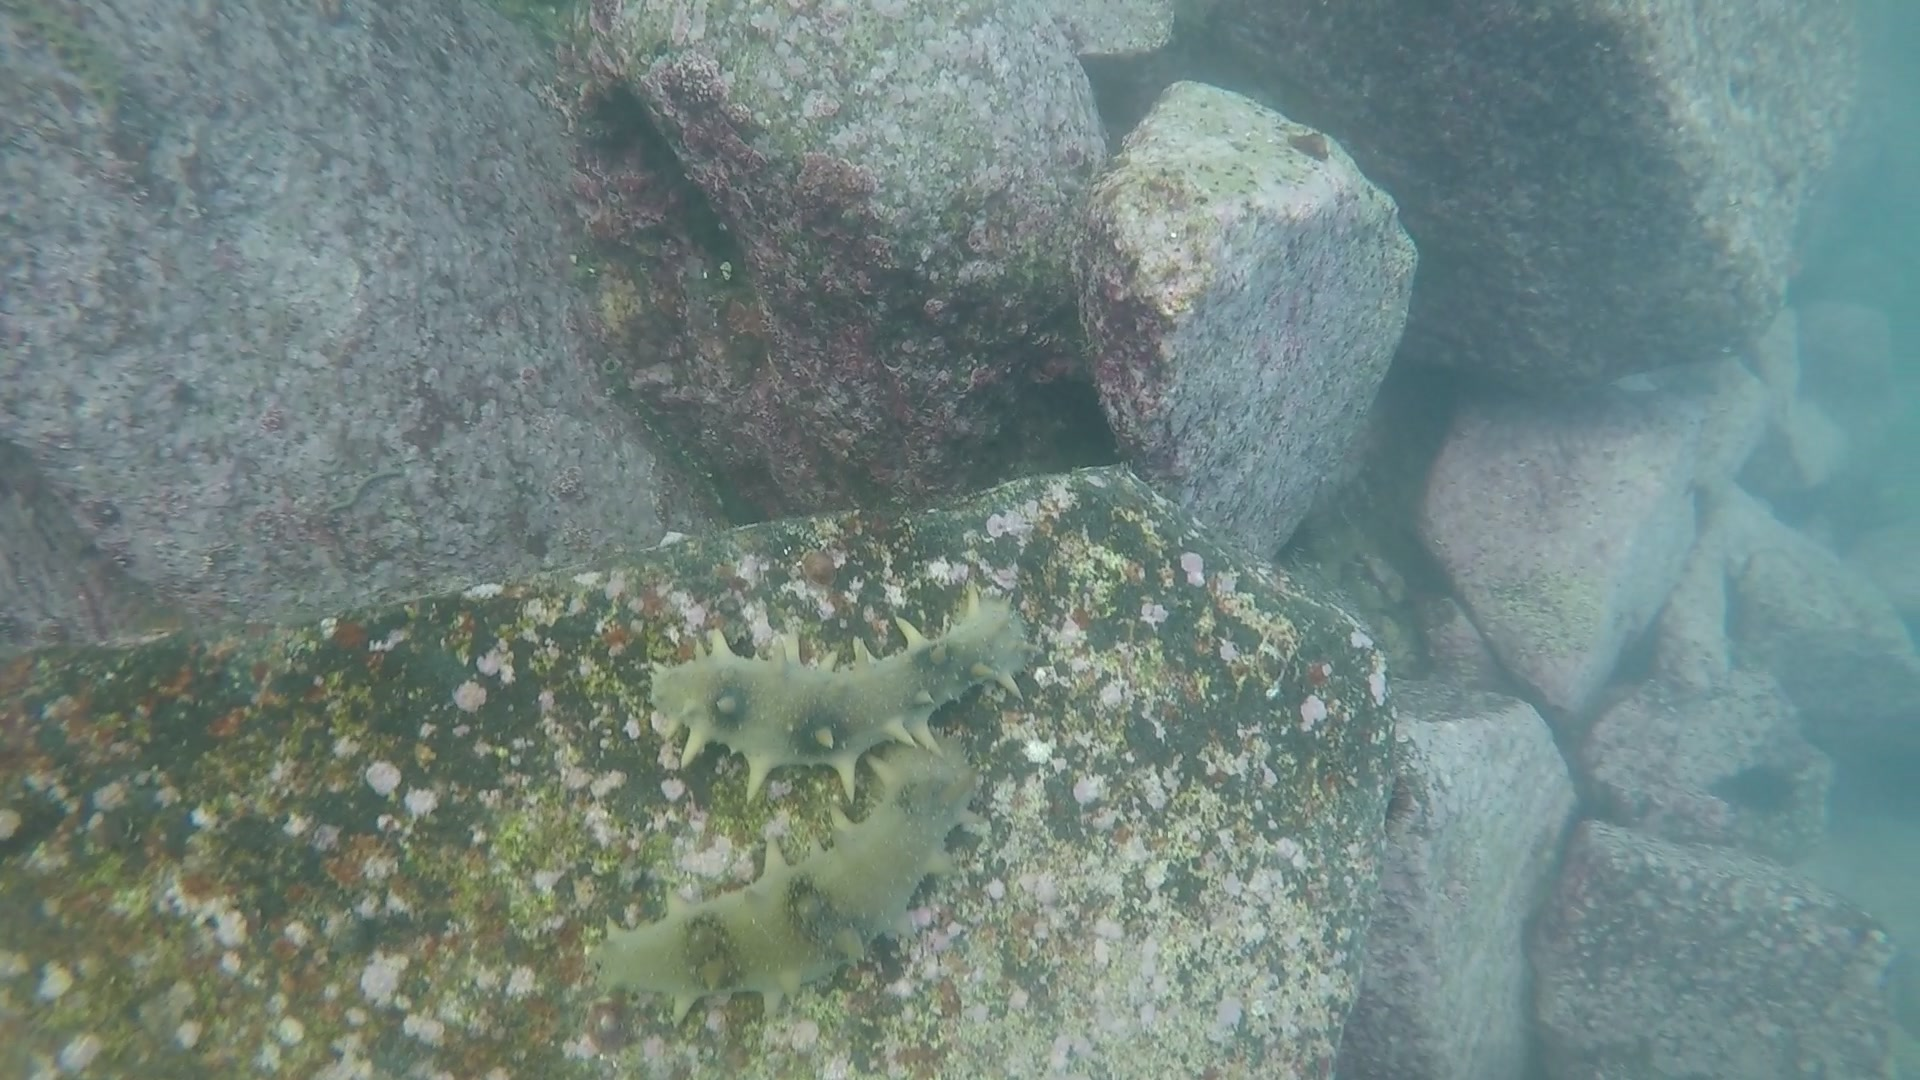echinus: (1714, 753, 1797, 814)
holothurian: (578, 746, 982, 1023), (640, 615, 1043, 806)
